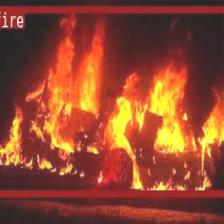fire: (0, 6, 224, 194)
